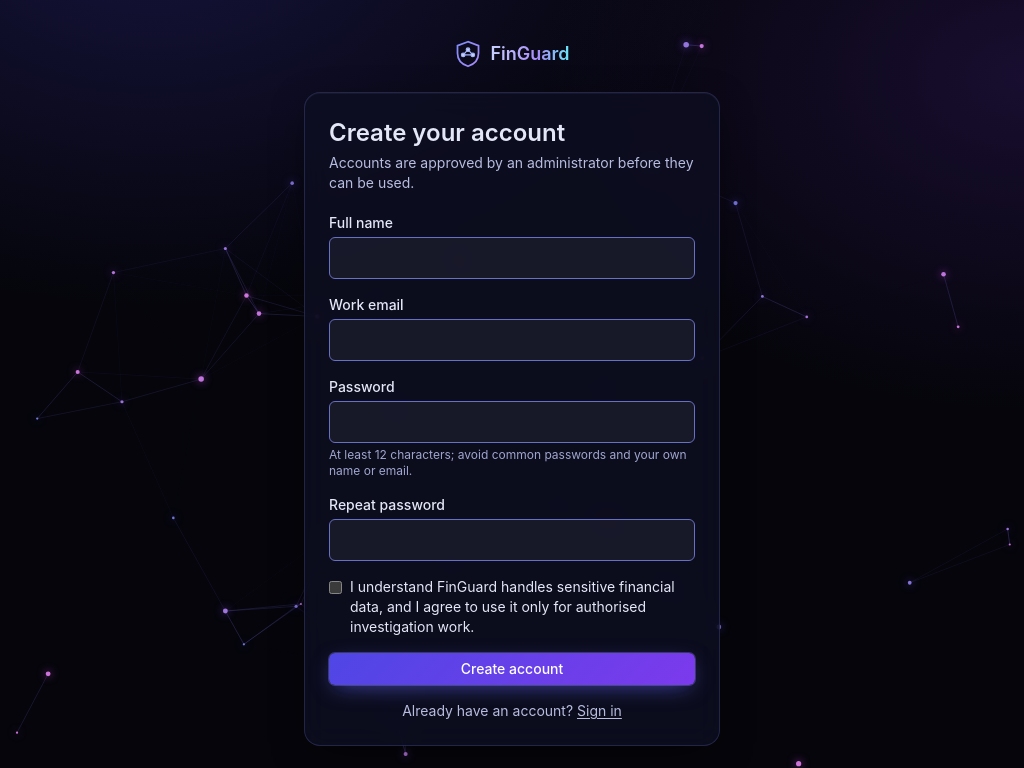
RegisterPage › explains a rate limit
The width and height of the screenshot is (1024, 768).
Type "Asha Rao" into the field labelled "Full name" at (512, 258), box [329,237,695,279]
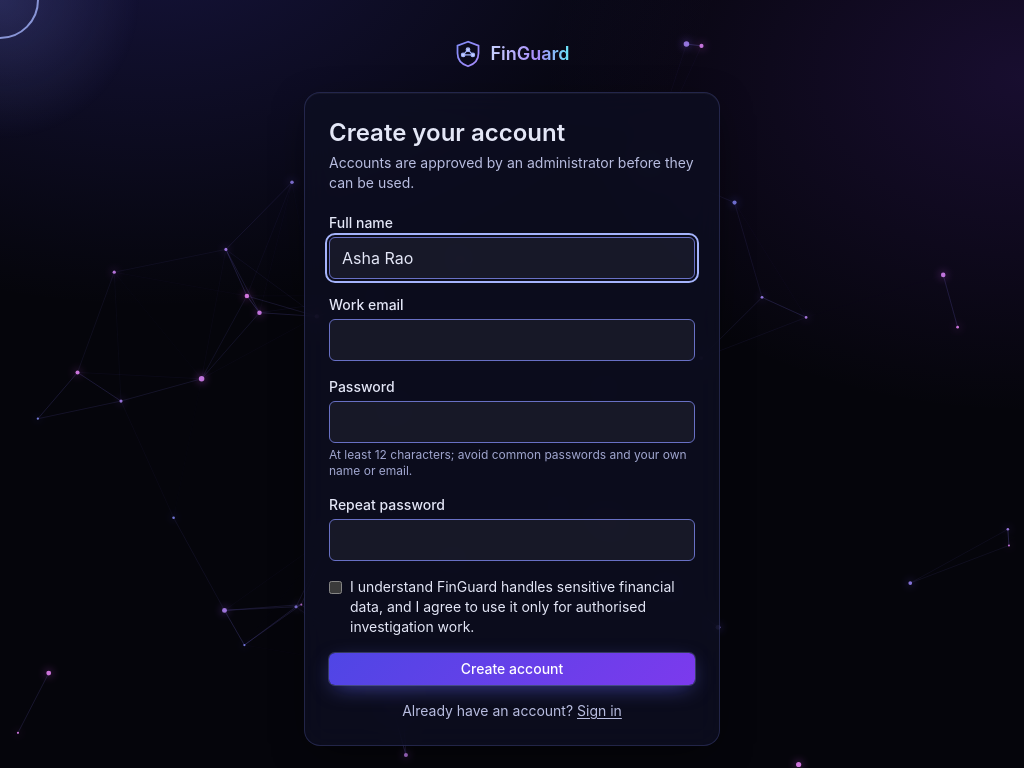
Type "asha@example.com" into the field labelled "Work email" at (512, 340), box [329,319,695,361]
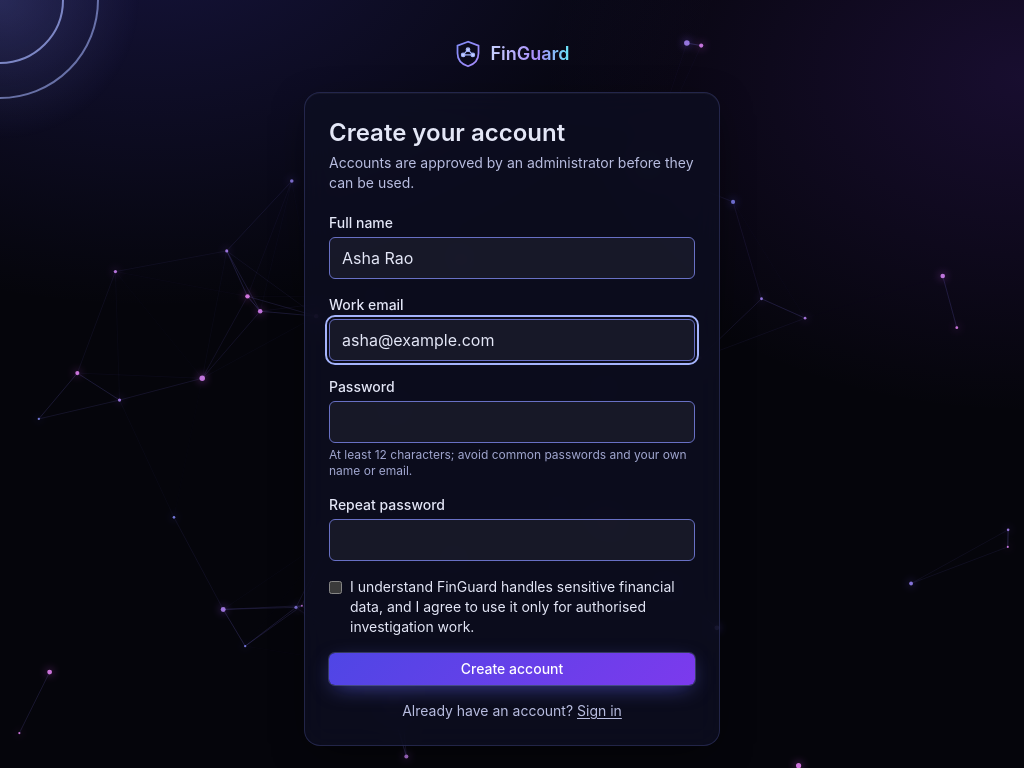
Type "Correct-Horse-Battery-9" into the password field labelled "Password" at (512, 422), box [329,401,695,443]
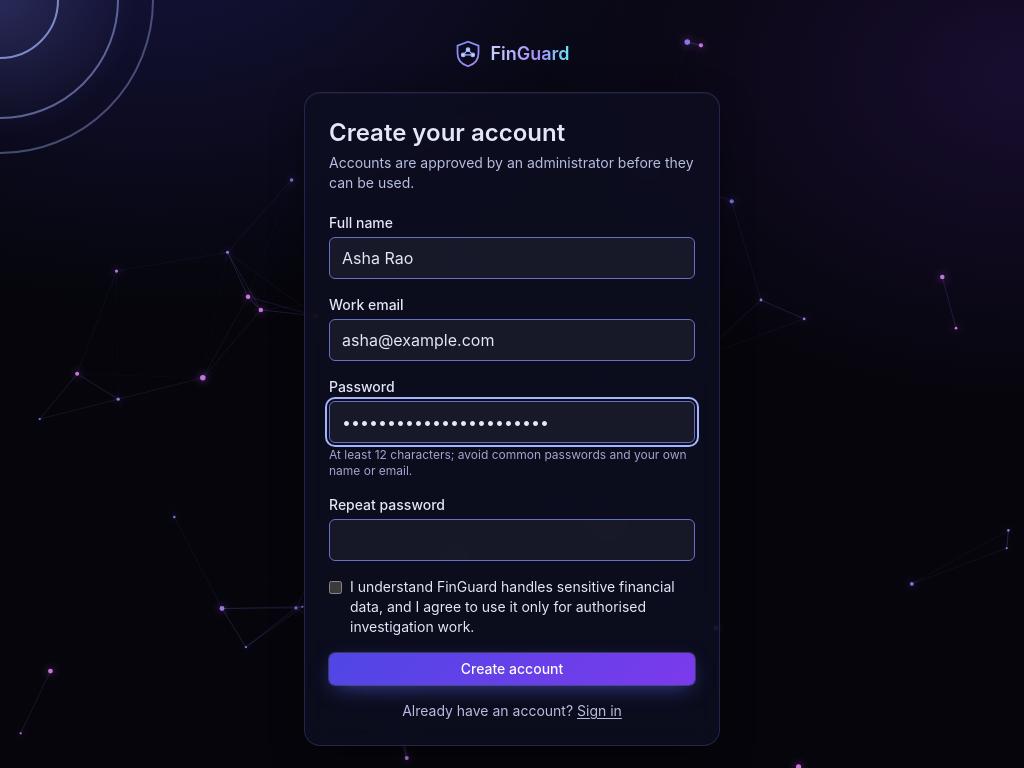
Type "Correct-Horse-Battery-9" into the password field labelled "Repeat password" at (512, 540), box [329,519,695,561]
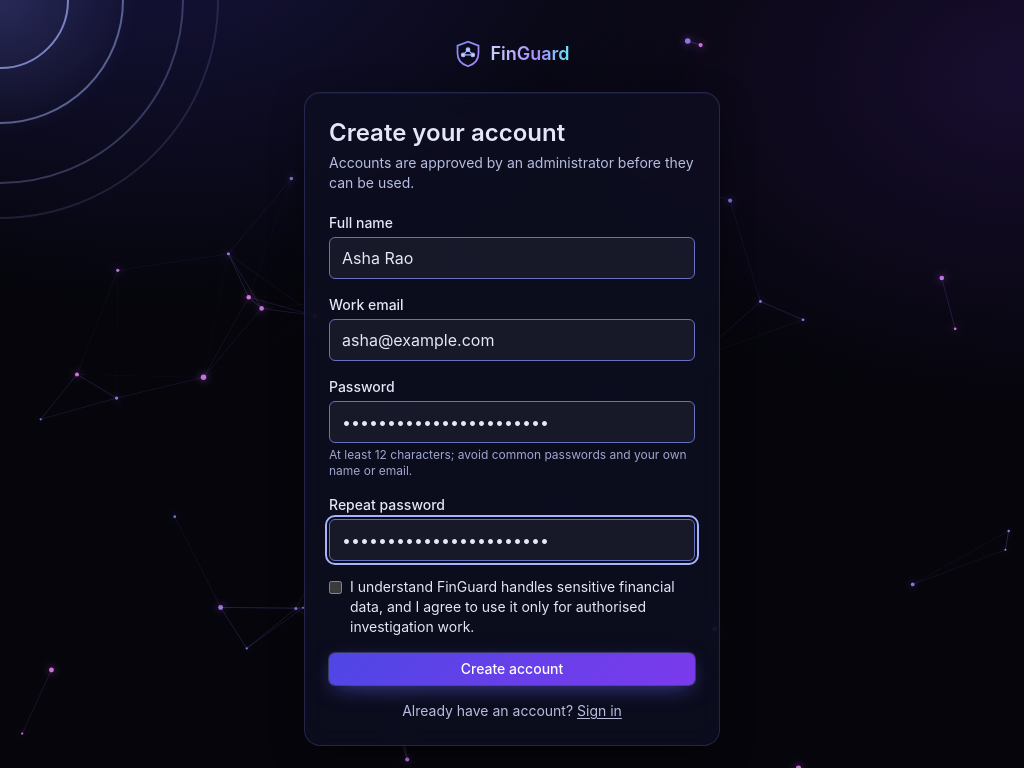
Click the checkbox at (336, 588), box [329,581,342,594]
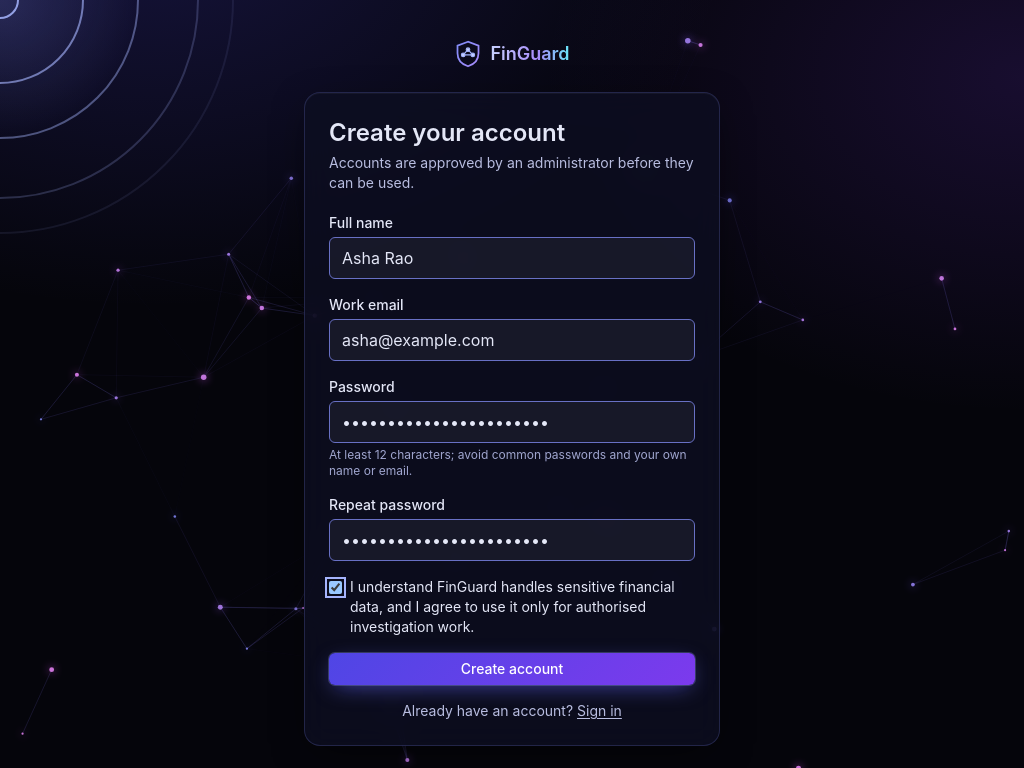
Click the button "Create account" at (512, 669), box [329,653,695,685]
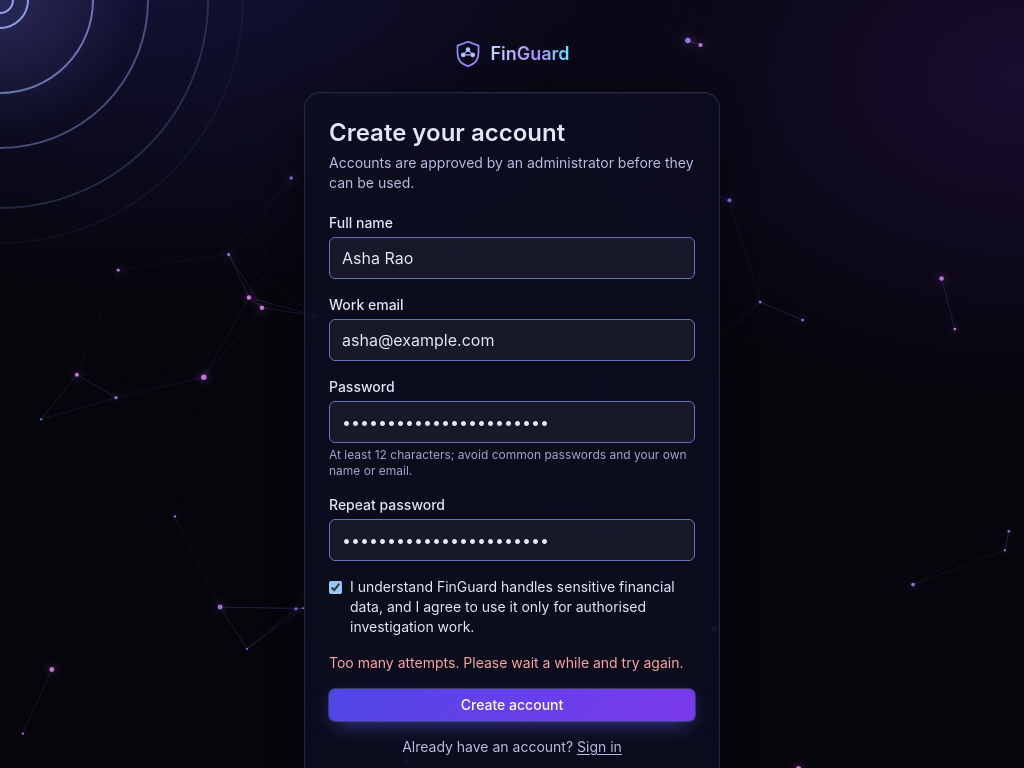
expect the message shows "Too many attempts": met, box [329,654,684,671]
